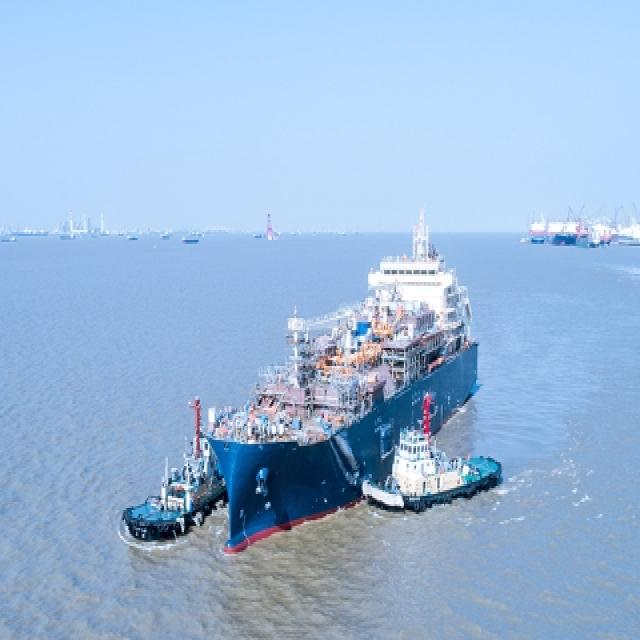boat: (109, 211, 545, 577)
